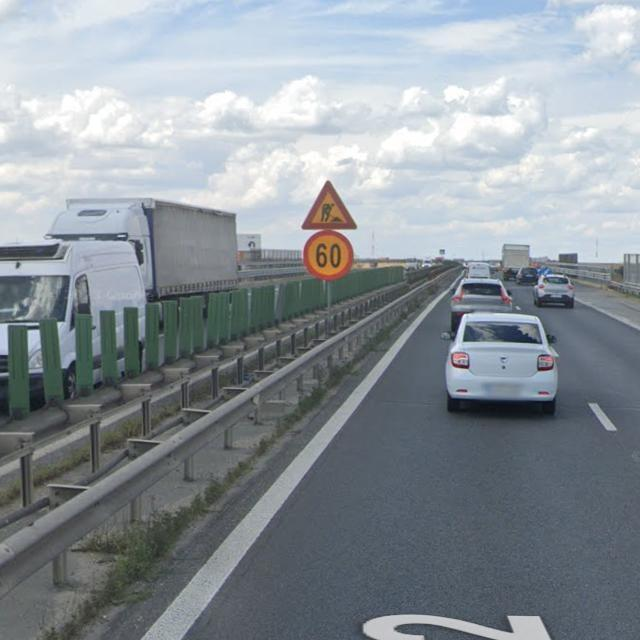forb_speed_over_60: (304, 231, 354, 281)
